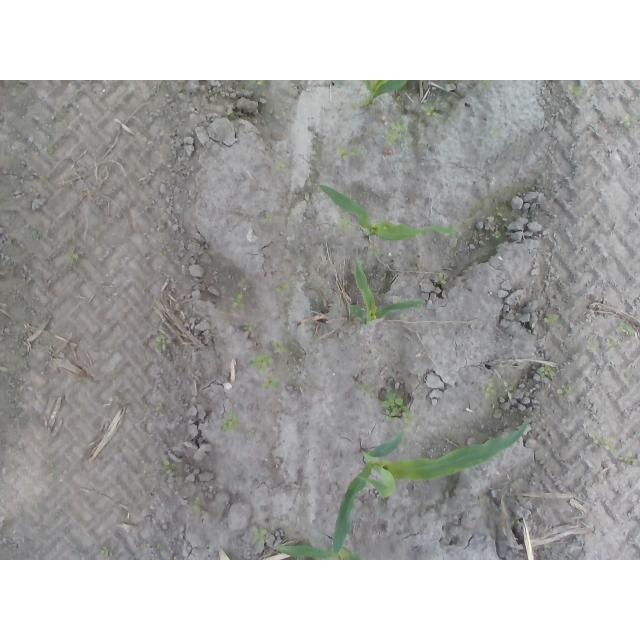Maize: (328, 416, 528, 553), (319, 184, 457, 241), (349, 262, 424, 323), (280, 544, 360, 561), (362, 80, 408, 106)
Weeds: (252, 353, 283, 391), (384, 393, 408, 420), (385, 122, 403, 145), (336, 146, 360, 161), (222, 414, 240, 433), (152, 335, 169, 352), (419, 105, 438, 118), (481, 383, 498, 397), (275, 283, 289, 297), (230, 293, 243, 308), (542, 314, 559, 325), (273, 339, 286, 353), (619, 321, 631, 336), (437, 271, 449, 286), (254, 527, 266, 542), (539, 367, 554, 378), (504, 381, 513, 399), (253, 80, 271, 89), (340, 218, 352, 231), (66, 250, 79, 262), (163, 460, 175, 472), (244, 321, 256, 332), (262, 211, 274, 221), (571, 87, 582, 96), (491, 232, 501, 241)
